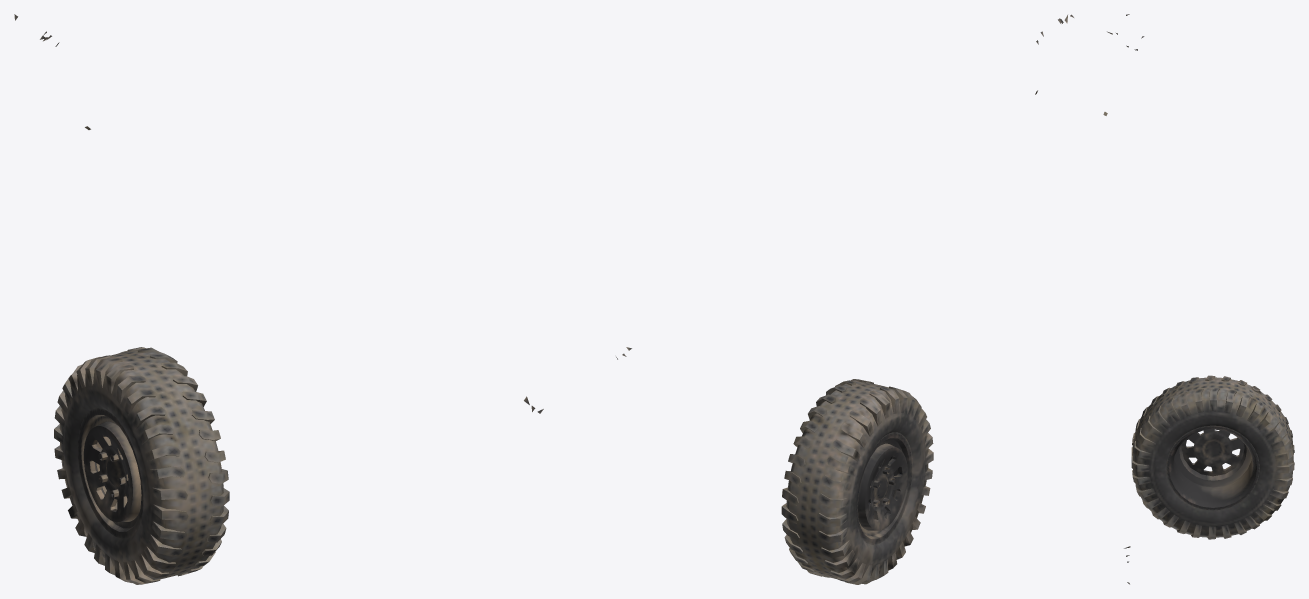
File: right_tire_back.gltf
3 renders of one model, left to right at view 1: azimuth 30°, elevation 25°; view 2: azimuth 150°, elevation 25°; view 3: azimuth 270°, elevation 25°, orthographic. The views are drawn at different scales.
Visible parts, largest first — view 1: Mesh_1.473; view 2: Mesh_1.473; view 3: Mesh_1.473.
Part boxes in pixels (box(x1,y1,x2,y2)): Mesh_1.473: box(54, 347, 229, 584); Mesh_1.473: box(781, 379, 933, 584); Mesh_1.473: box(1131, 375, 1294, 539).
Bounding box in the file's own units: 1.96 × 2.18 × 0.8342.
Materials: 1 (1 with a texture image).
